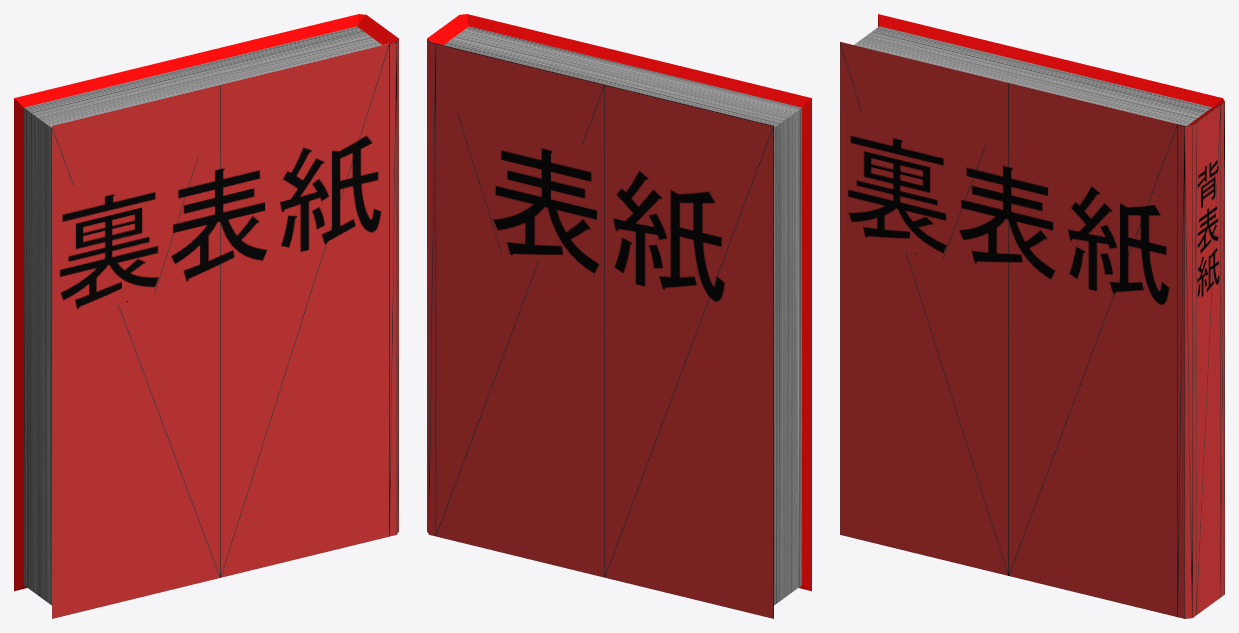
Rendered from Book.fbx.
The picture shows the model from 3 angles, left to right: view 1: azimuth 30°, elevation 25°; view 2: azimuth 150°, elevation 25°; view 3: azimuth 330°, elevation 25°; orthographic projection.
Parts seen in each view (by area): view 1: Book; view 2: Book; view 3: Book.
Boxes of the visible parts, x1,y1,x2,y2 form: Book: (14,14,398,618); Book: (427,14,811,618); Book: (840,14,1224,618).
Bounding box in the file's own units: 59.35 × 79.97 × 11.14.
